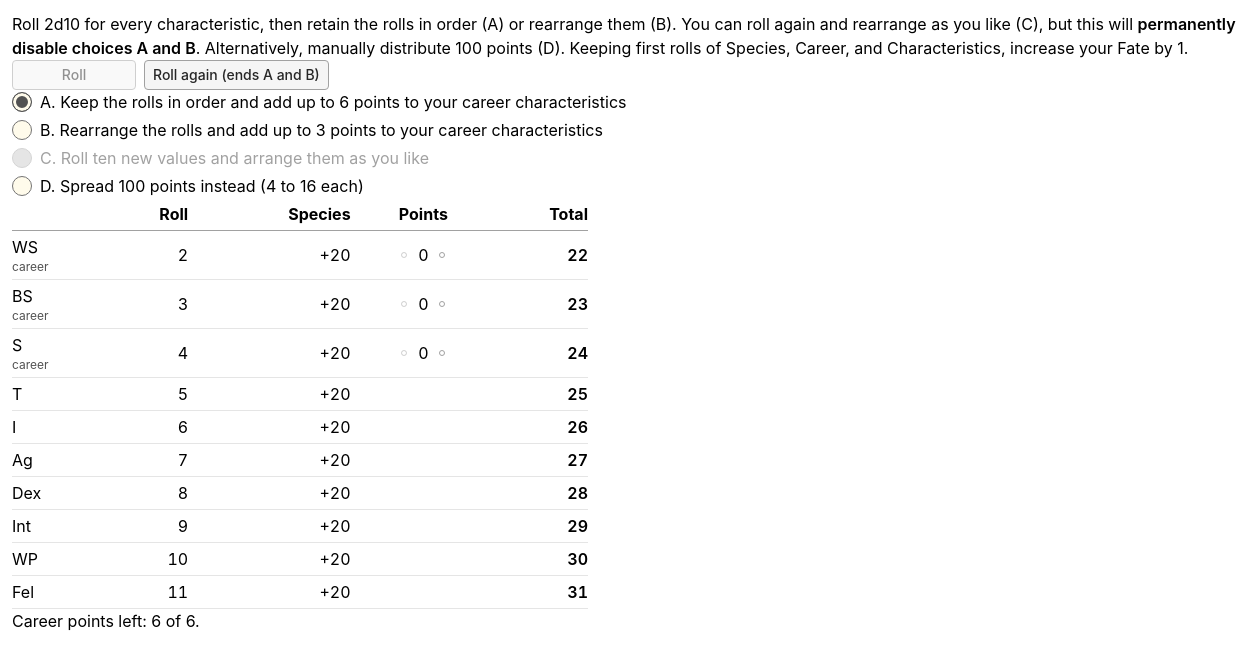
Test case: GuidedCharacteristics5e › A: points go on career characteristics, up to 6
Click the button named "Add a point to WS" at (442,255), box x1=439 y1=252 x2=445 y2=258
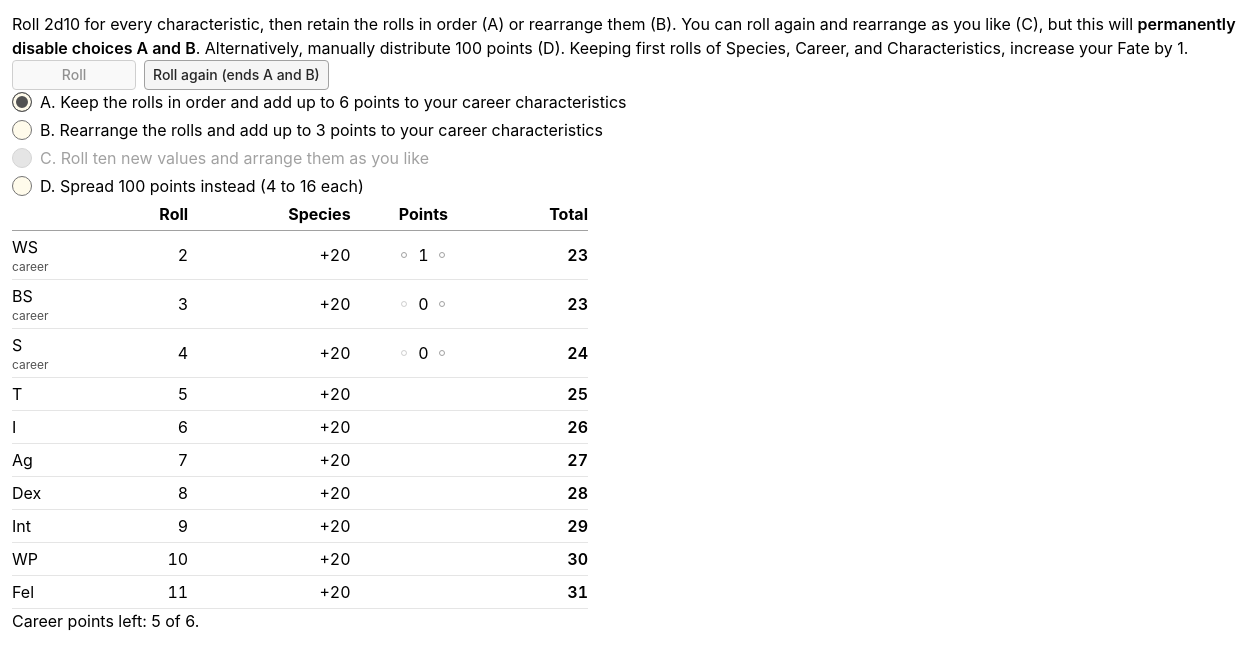
Click the button named "Add a point to WS" at (442,255), box x1=439 y1=252 x2=445 y2=258
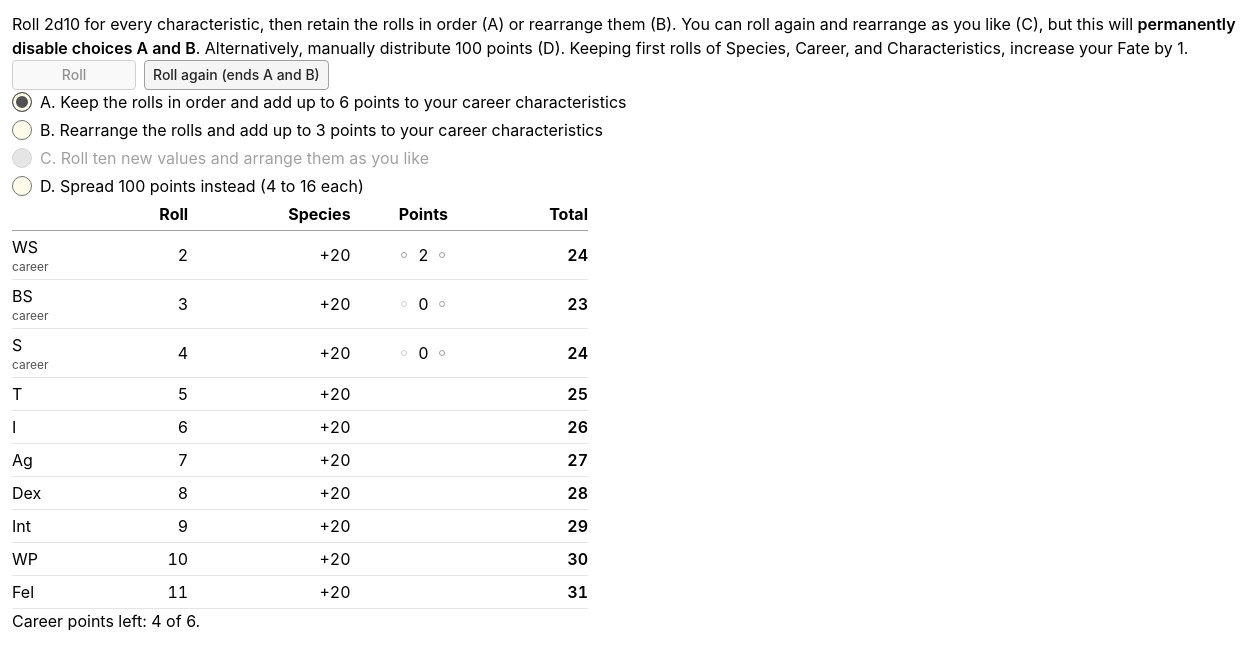
Click the button named "Add a point to WS" at (442,255), box x1=439 y1=252 x2=445 y2=258
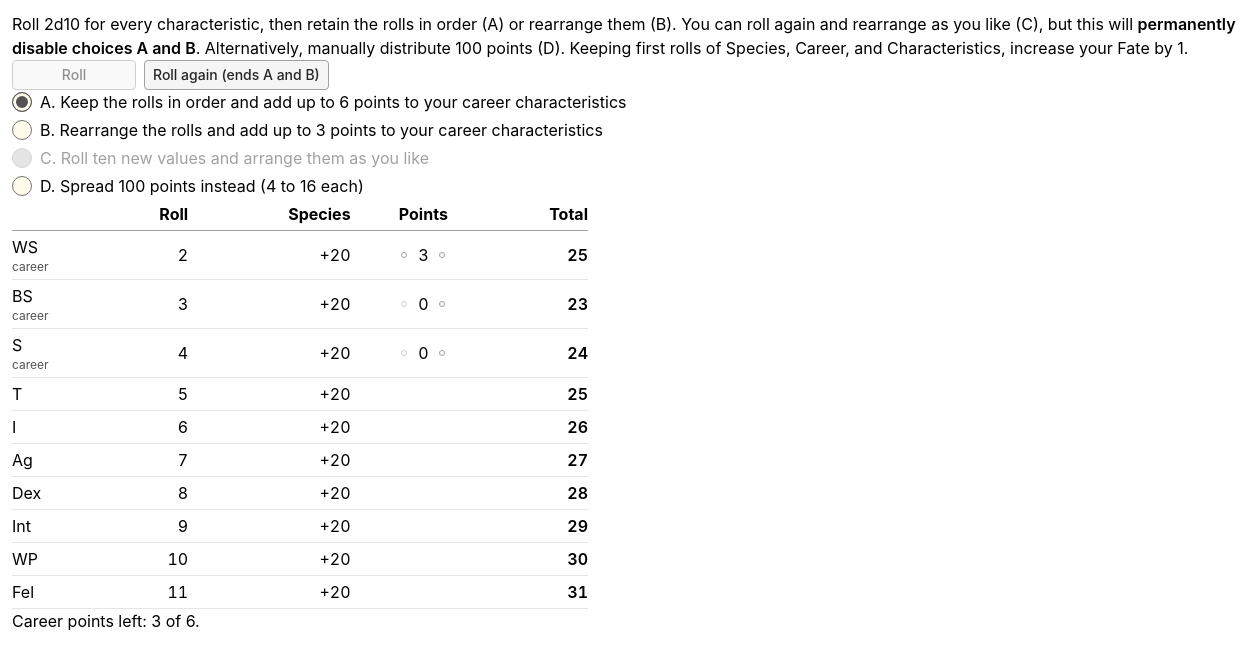
Click the button named "Add a point to WS" at (442,255), box x1=439 y1=252 x2=445 y2=258
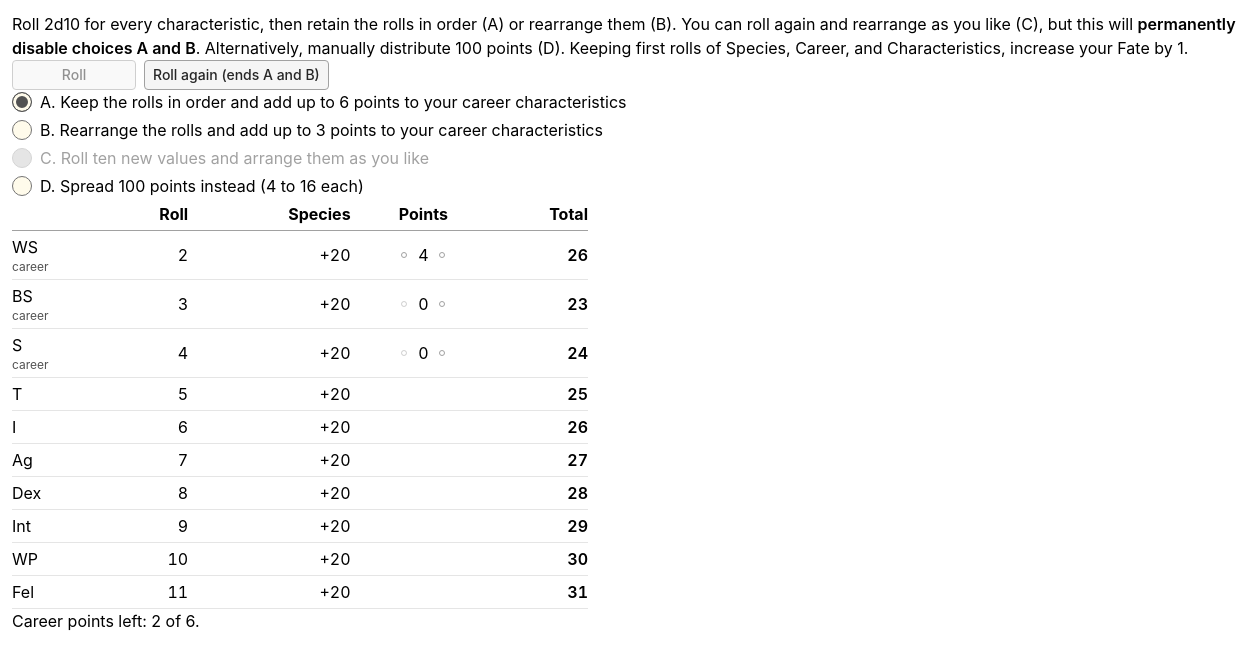
Click the button named "Add a point to WS" at (442,255), box x1=439 y1=252 x2=445 y2=258
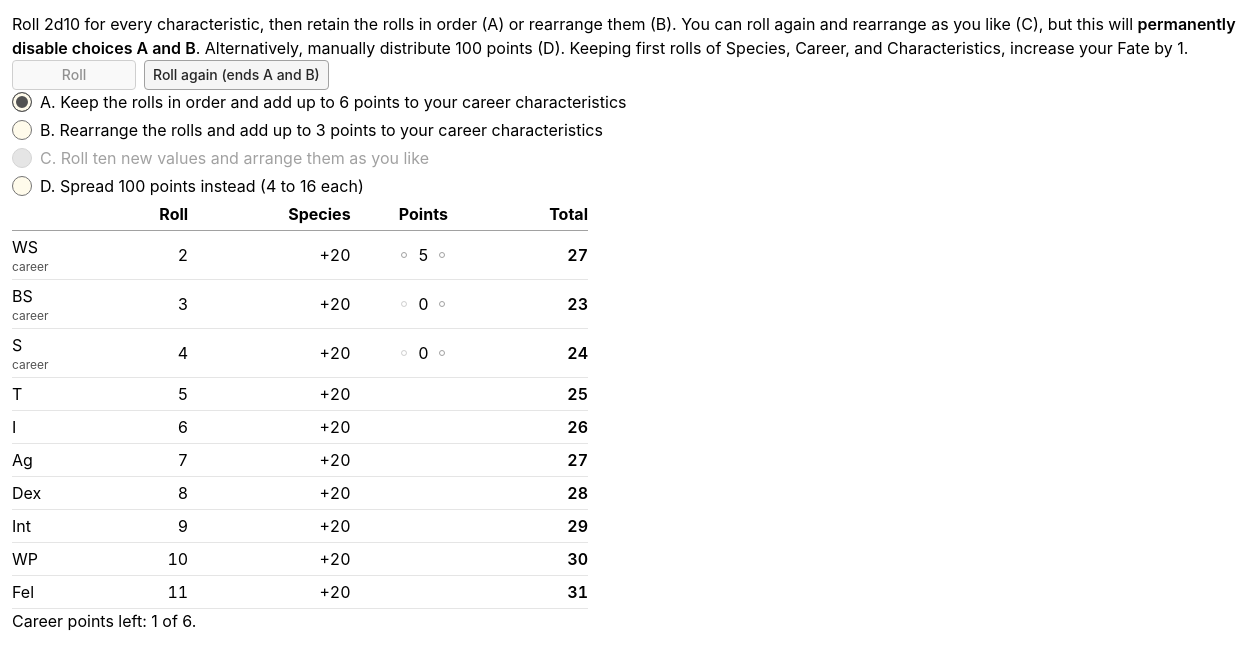
Click the button named "Add a point to WS" at (442,255), box x1=439 y1=252 x2=445 y2=258
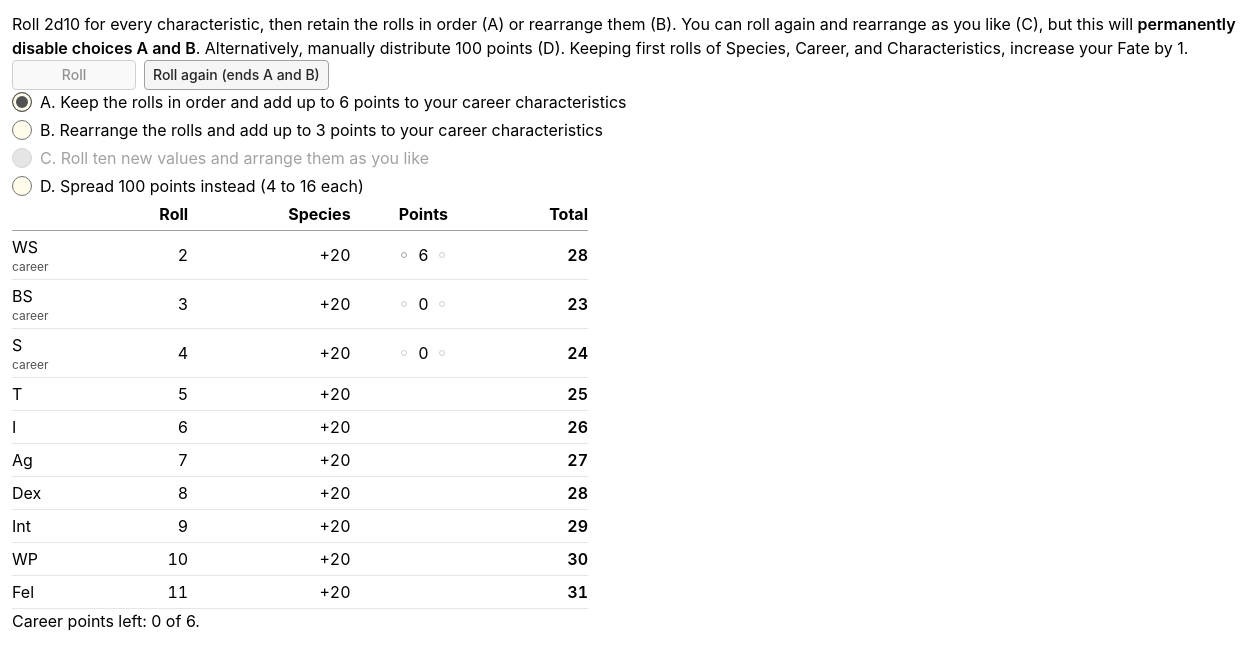
Now the button named "Add a point to BS" is disabled, box x1=439 y1=301 x2=445 y2=307
Now the text "Career points left: 0 of 6" is shown, box x1=12 y1=611 x2=200 y2=631
